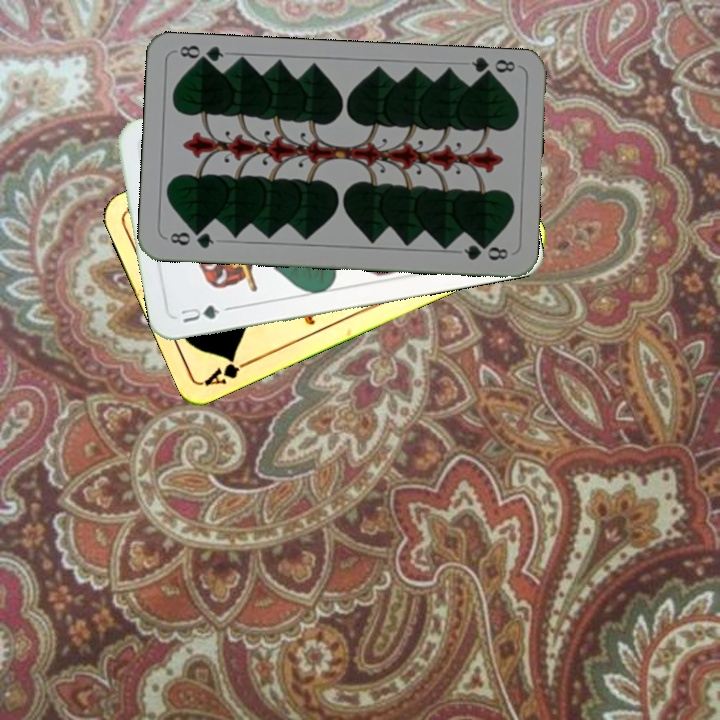G8: (467, 54, 518, 82), (166, 227, 217, 251)
GA: (201, 352, 258, 388)
GU: (176, 300, 223, 326)
